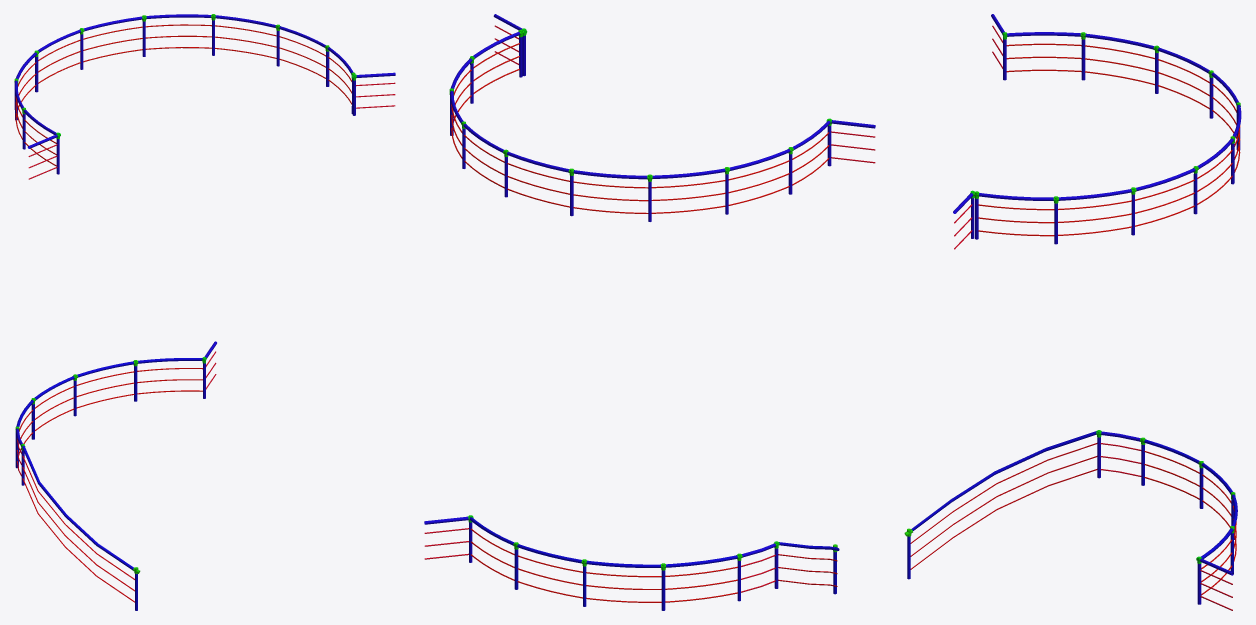
File: station_barrier_01.fbx
3 renders of one model, left to right at view 1: azimuth 30°, elevation 25°; view 2: azimuth 150°, elevation 25°; view 3: azimuth 270°, elevation 25°, orthographic. The views are drawn at different scales.
Visible parts, largest first — view 1: handrail_side01.2; view 2: handrail_side01.2; view 3: handrail_side01.2.
Boxes of the visible parts, x1,y1,x2,y2 form: handrail_side01.2: (14, 14, 395, 610); handrail_side01.2: (424, 14, 875, 610); handrail_side01.2: (904, 14, 1241, 610).
Bounding box in the file's own units: 1141 × 1415 × 824.
